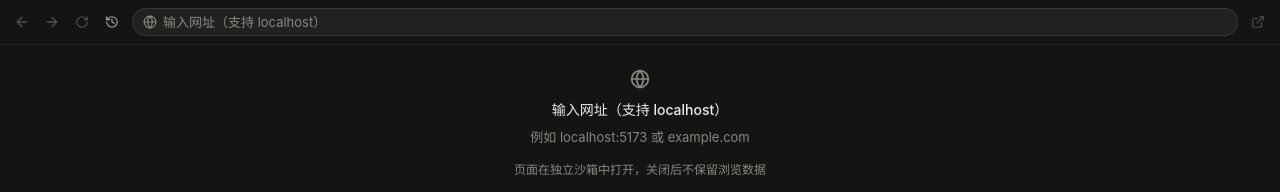
Test: BrowserPane › starts empty and loads a page only on an address-bar submit
Expected: the element with class "browser-viewport" shows "输入网址（支持 localhost）", top-left (552, 101), bottom-right (728, 118)
Type "  localhost:5173 " into the field with placeholder "输入网址（支持 localhost）" at point(695, 22), box top-left (163, 9), bottom-right (1227, 35)
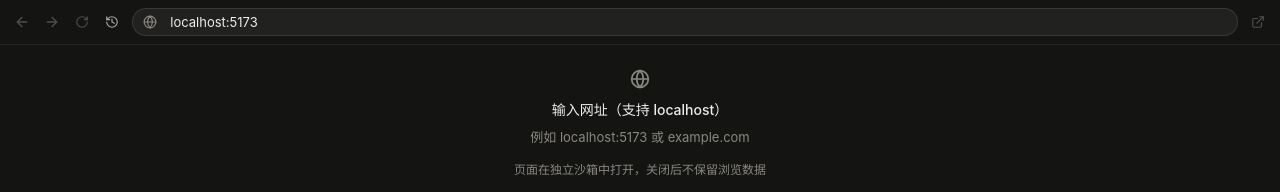
Submit the form with class "browser-address", box top-left (132, 8), bottom-right (1238, 36)
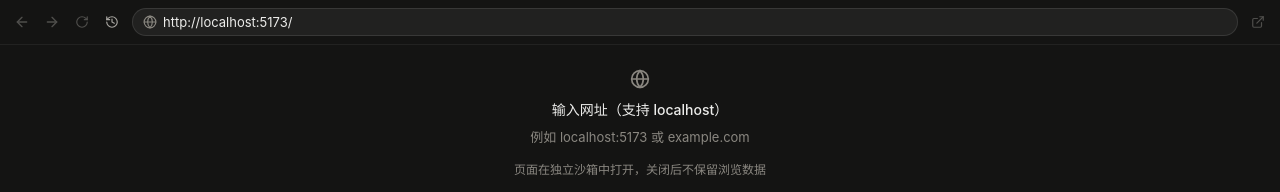
Expected: the field named "网址" holds "http://localhost:5173/", top-left (163, 9), bottom-right (1227, 35)
